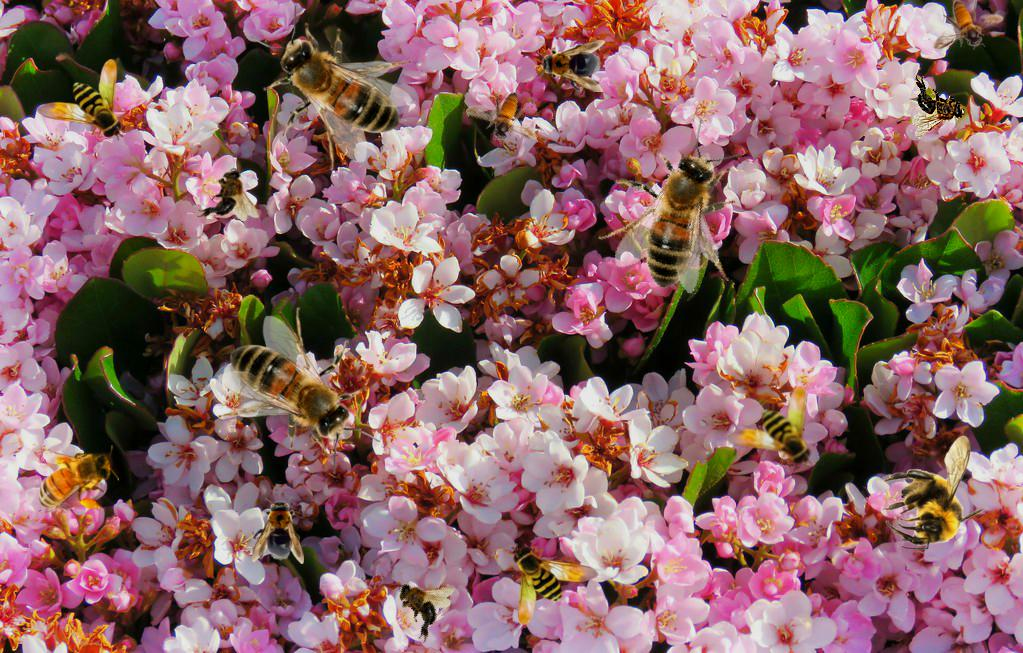Bee: (573, 109, 782, 315), (250, 4, 412, 171), (218, 307, 380, 474), (882, 435, 989, 550), (464, 75, 550, 162), (511, 543, 599, 625), (725, 386, 813, 468), (36, 59, 124, 141), (26, 445, 119, 513), (381, 565, 458, 645), (933, 0, 1004, 50), (537, 40, 605, 92), (252, 496, 304, 564), (912, 75, 965, 137), (197, 168, 259, 221)
